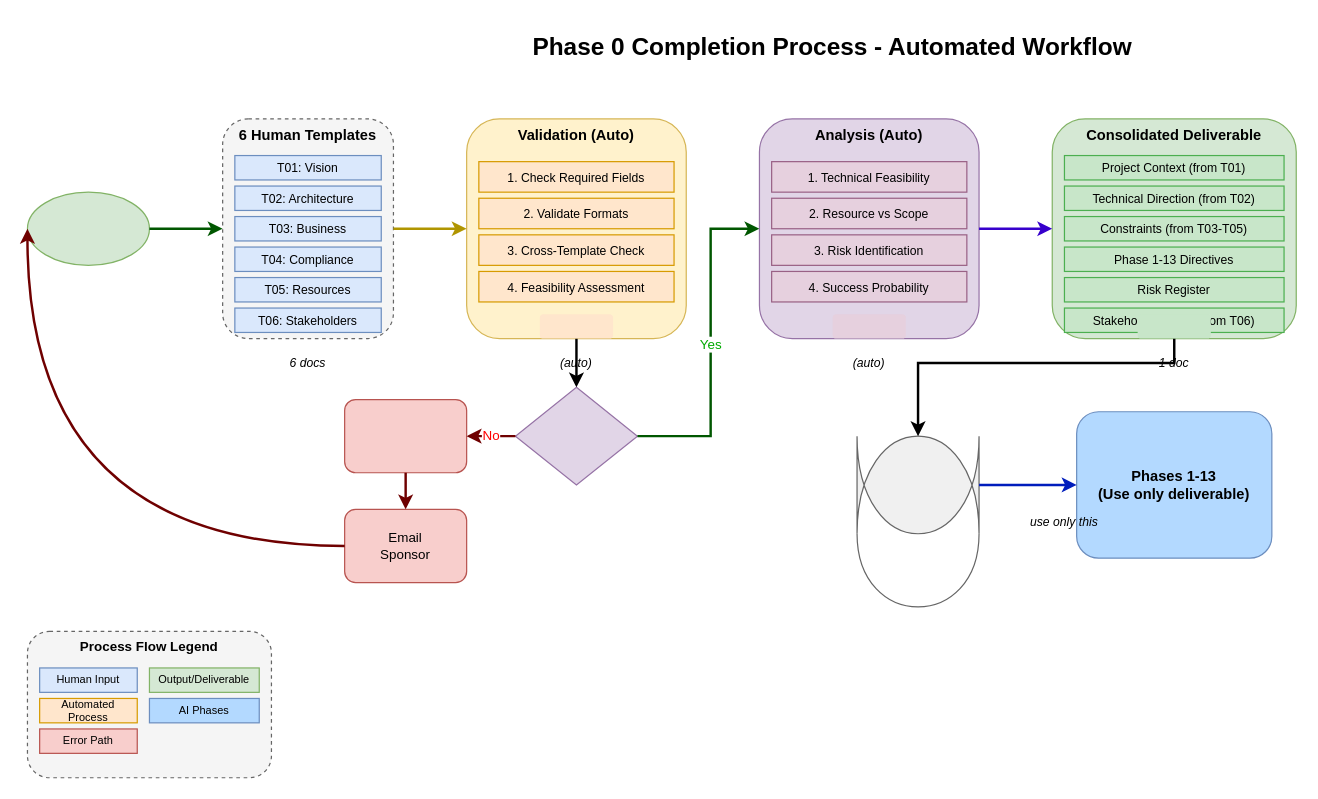
Some shapes in this 1318 by 799 pixel diagram are drawn without their labels. Each missing label, with the centre of its shape:
"Generate Error Report" goes at (405,435).
"Store Deliverable" goes at (917,484).
"Templates Uploaded" goes at (87,228).
"Validation Passed?" goes at (575,435).
"~10 min" goes at (868,326).
"~2 min" goes at (1173,326).
"~5 min" goes at (575,326).
